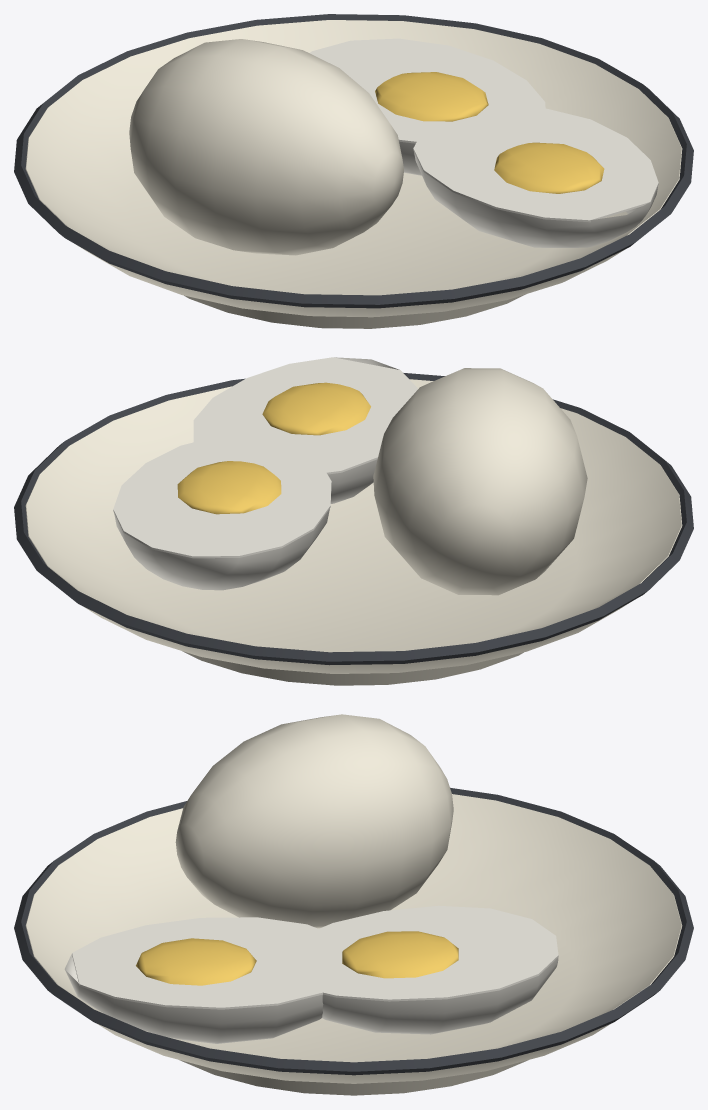
File: cook_boiled_egg.glb
3 views of the same model, one above another, from view 1: azimuth 30°, elevation 25°; view 2: azimuth 150°, elevation 25°; view 3: azimuth 270°, elevation 25° (orthographic).
Parts seen in each view (by area): view 1: body; view 2: body; view 3: body.
Part boxes in pixels (box(x1,y1,x2,y2)): body: box(14, 14, 693, 328); body: box(14, 357, 693, 685); body: box(14, 714, 693, 1095).
Bounding box in the file's own units: 0.0668 × 0.0237 × 0.0668.
